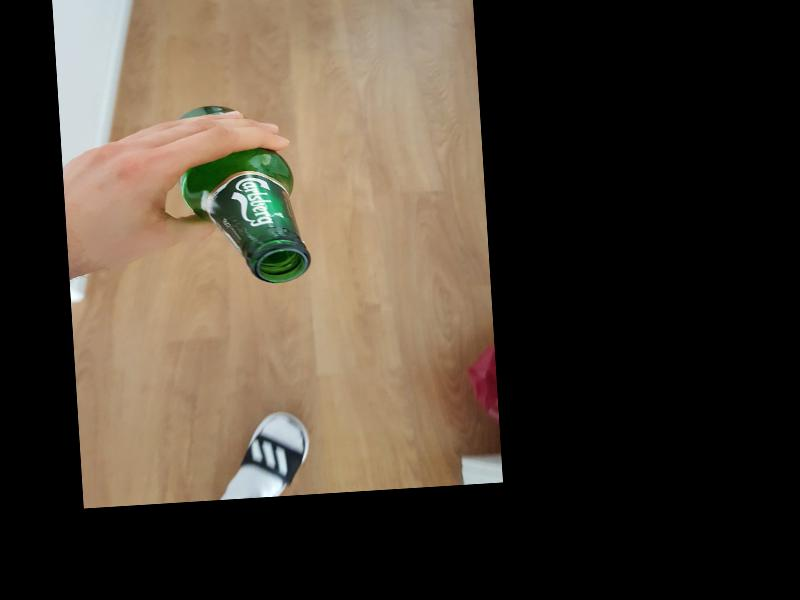Beer: (176, 100, 313, 288)
